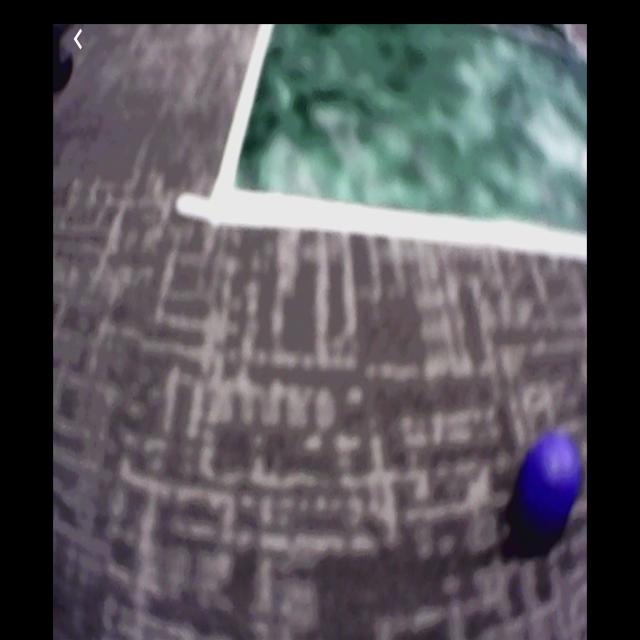ball: (523, 437, 583, 527)
